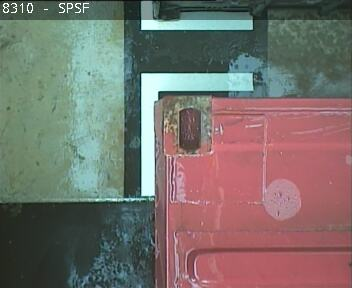groundmarker_1: (139, 1, 253, 199)
